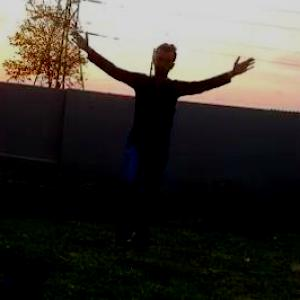takeoff: (77, 22, 270, 246)
